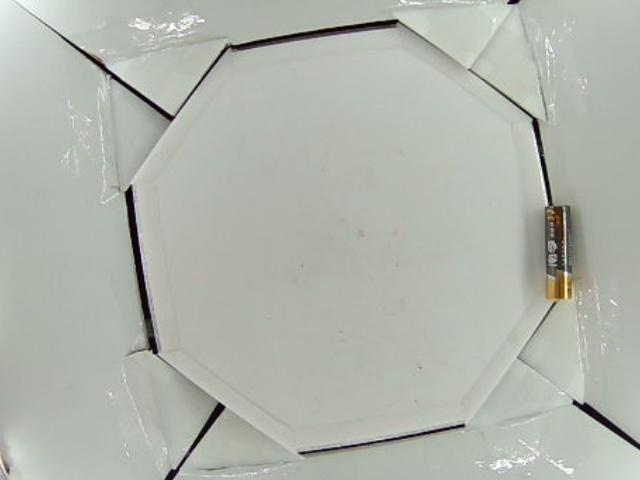Battery: (541, 202, 571, 302)
